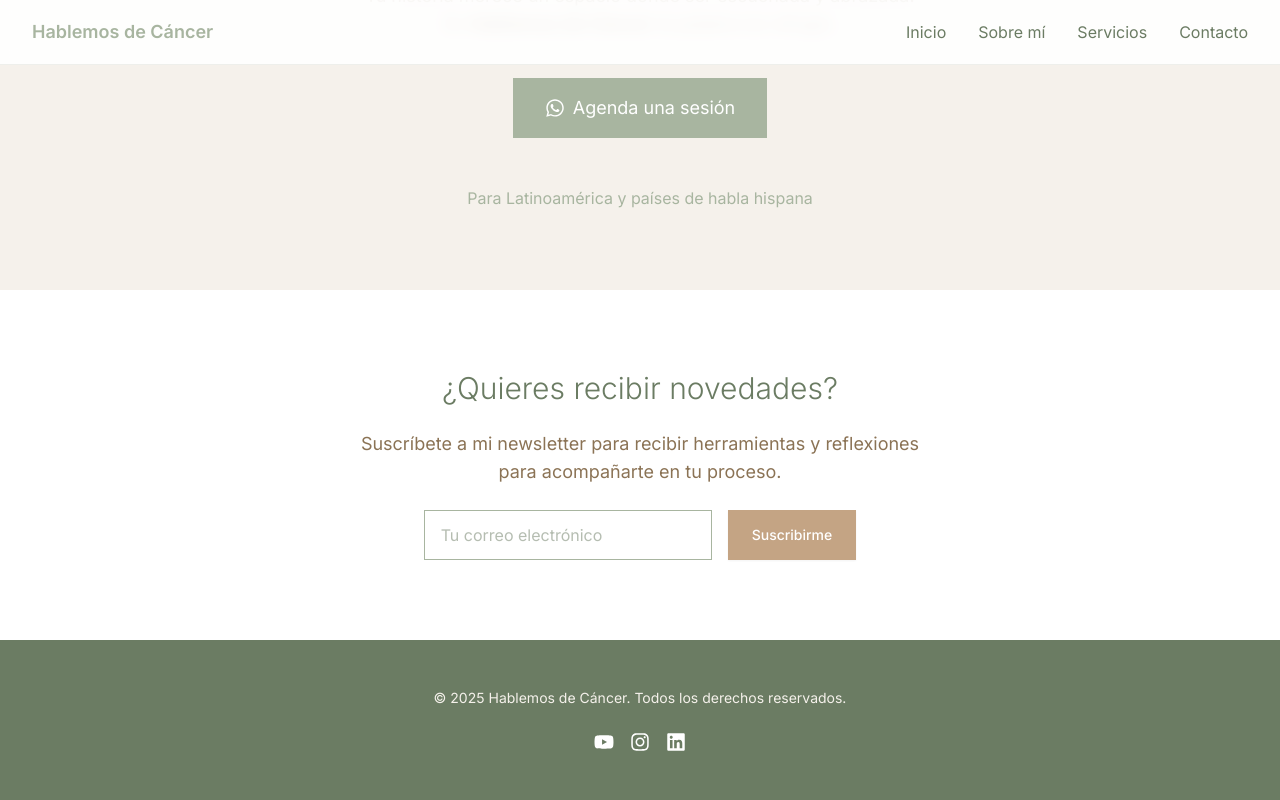
Test: Home Page › should handle newsletter subscription error
(page scrolled)
Type "test@test.com" into the field with placeholder "Tu correo electrónico" at (568, 535), box [424,510,712,560]
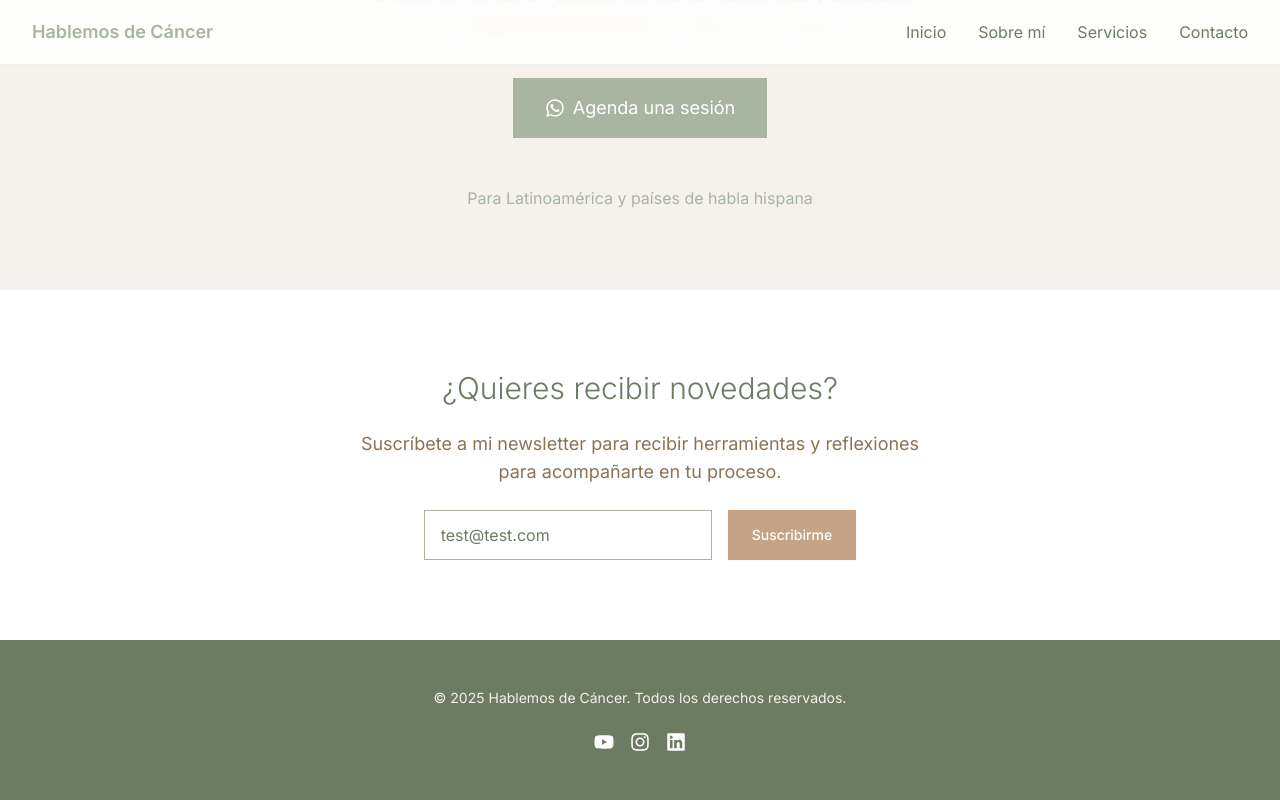
Click the button "Suscribirme" at (792, 535), box [728,510,856,560]
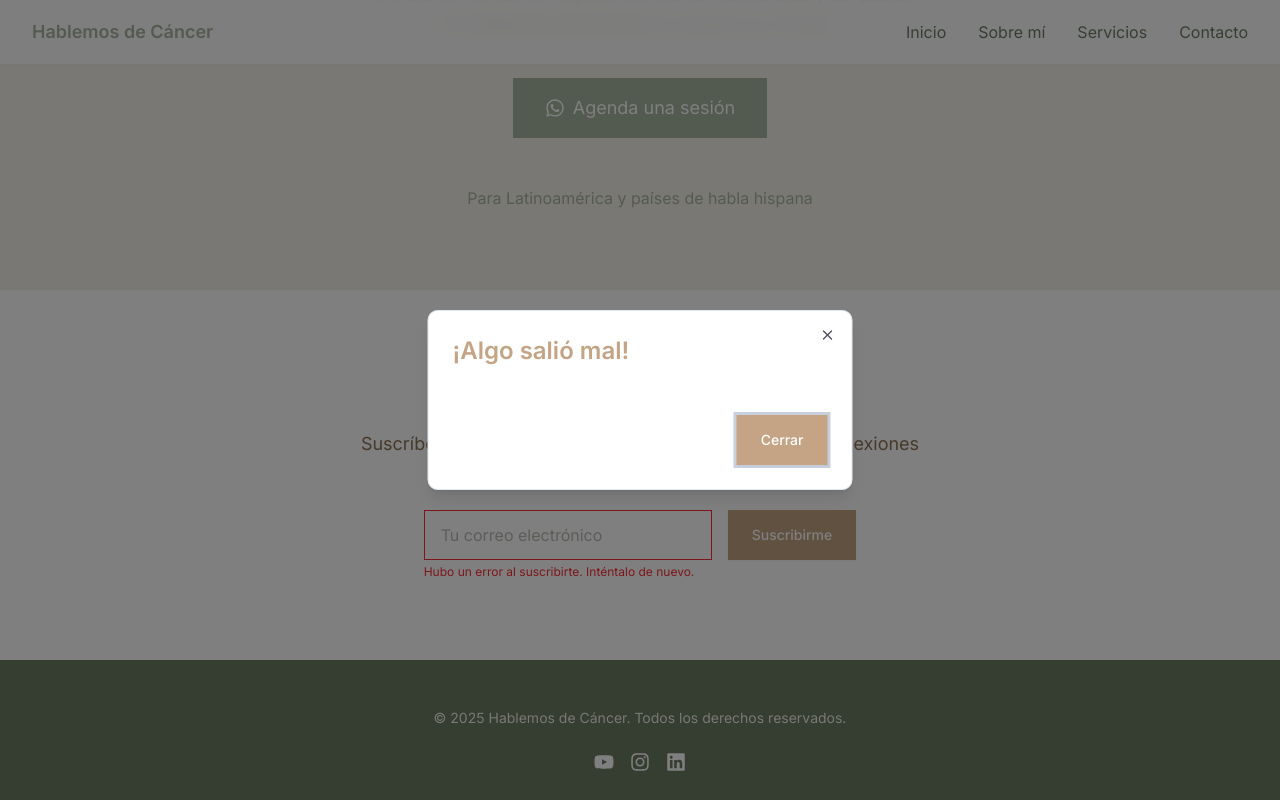
expect the text "Hubo un error al suscribirte. Inténtalo de nuevo." is shown: met, box [424,564,712,580]
